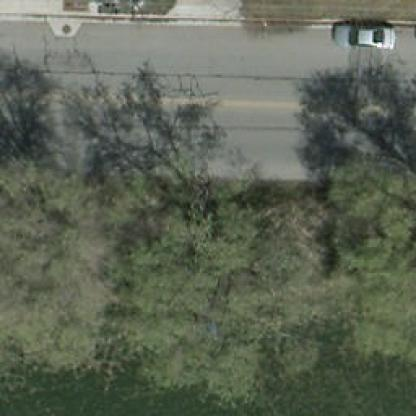car: (328, 22, 396, 50)
